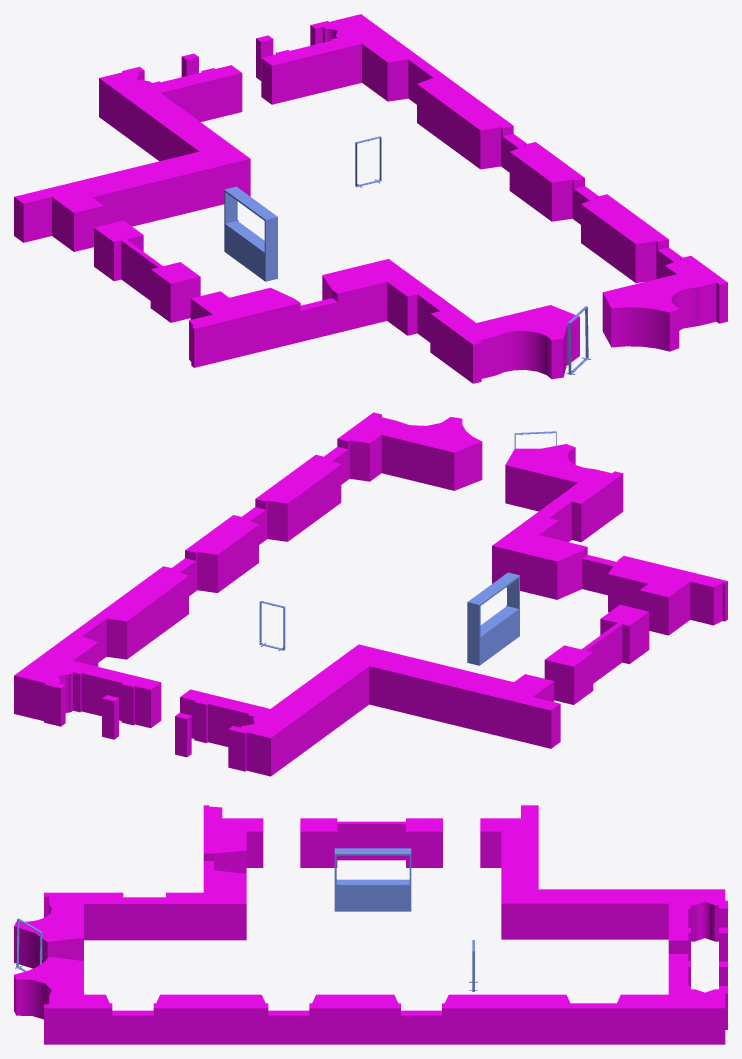
File: DiM_3D_sala.obj
3 renders of one model, top to bottom at view 1: azimuth 30°, elevation 25°; view 2: azimuth 150°, elevation 25°; view 3: azimuth 270°, elevation 25°, orthographic. The views are drawn at different scales.
Size of the model in its own units: 18.12 by 2.42 by 26.96.
